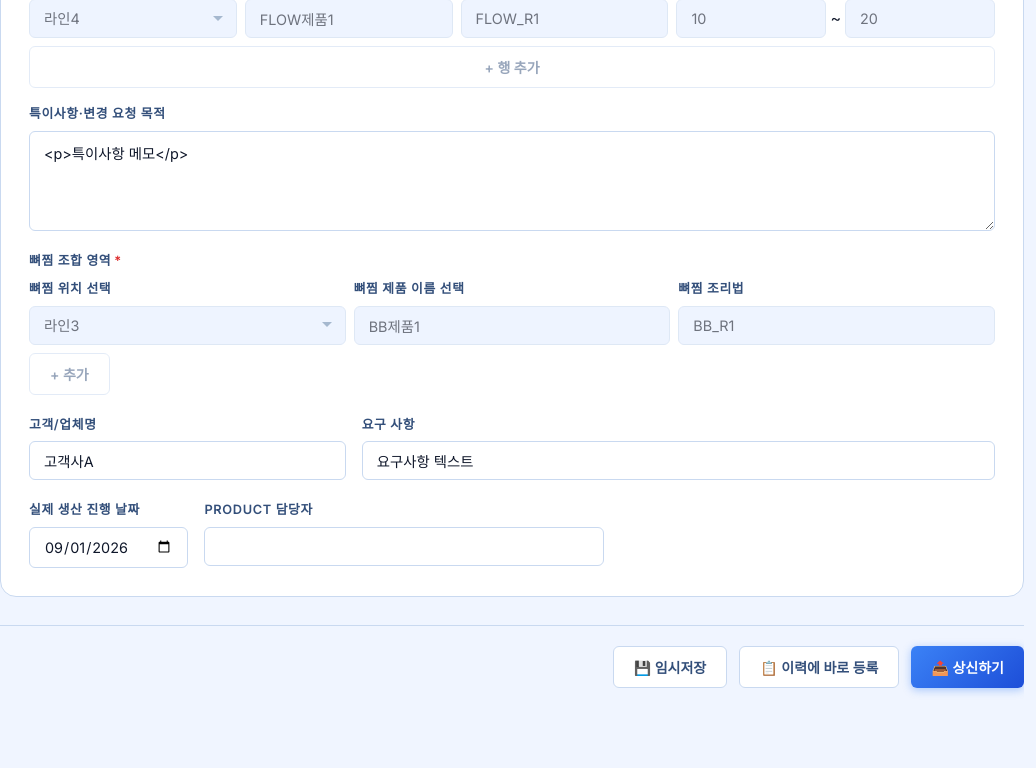
it: 검증 오류 → 오류 위치로 이동 + 빨간 표시 › ADI CD 변경 문서의 '이력 바로 등록'은 STEP5 Backbone 매핑 검사로 막히지 않는다
The width and height of the screenshot is (1036, 768).
(page scrolled)
Check: the field showing "고객사A" below "고객/업체명" is shown, box [29,441,346,480]
Click the button "📋 이력에 바로 등록" at (819, 667), box [739,646,900,688]
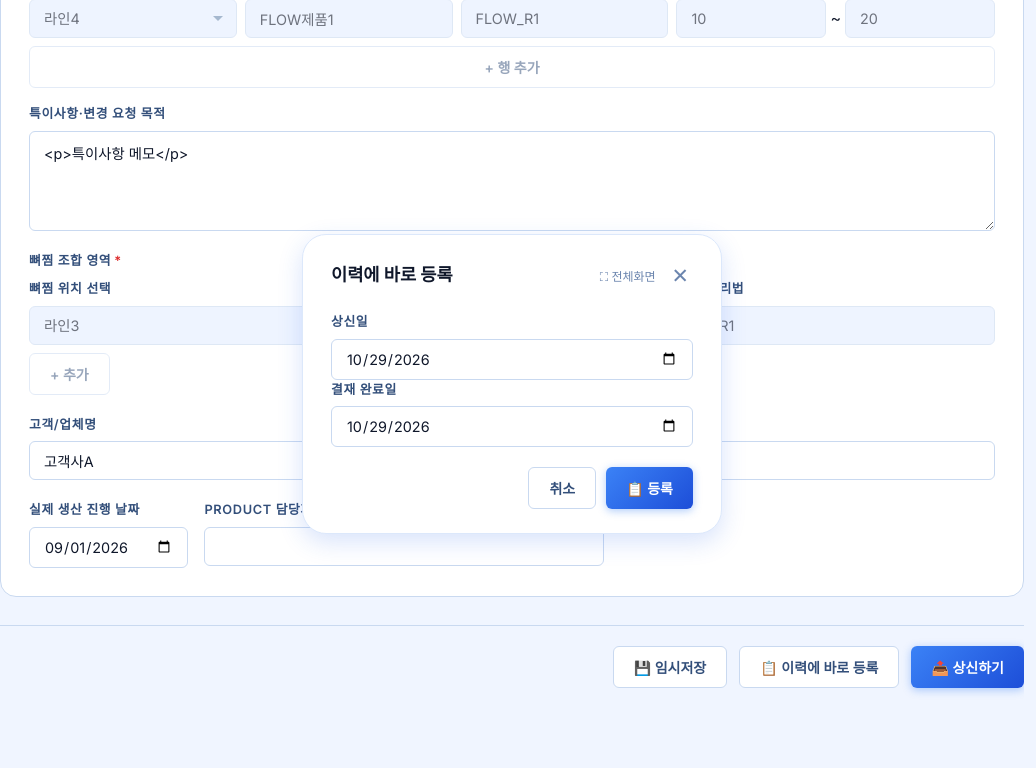
Check: the text "상신일" is shown, box [331,314,368,329]
